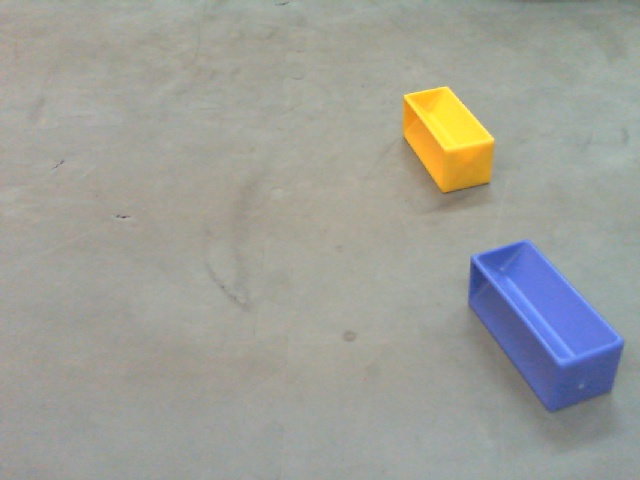BlueSample: (464, 238, 628, 418)
YellowSample: (401, 84, 510, 193)
